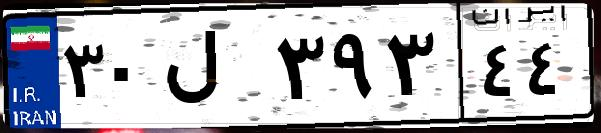0: (110, 28, 158, 98)
3: (270, 28, 330, 110), (385, 28, 445, 110), (57, 26, 110, 100)
4: (475, 38, 525, 113), (525, 38, 570, 115)
9: (330, 28, 385, 110)
ل: (158, 20, 270, 120)
